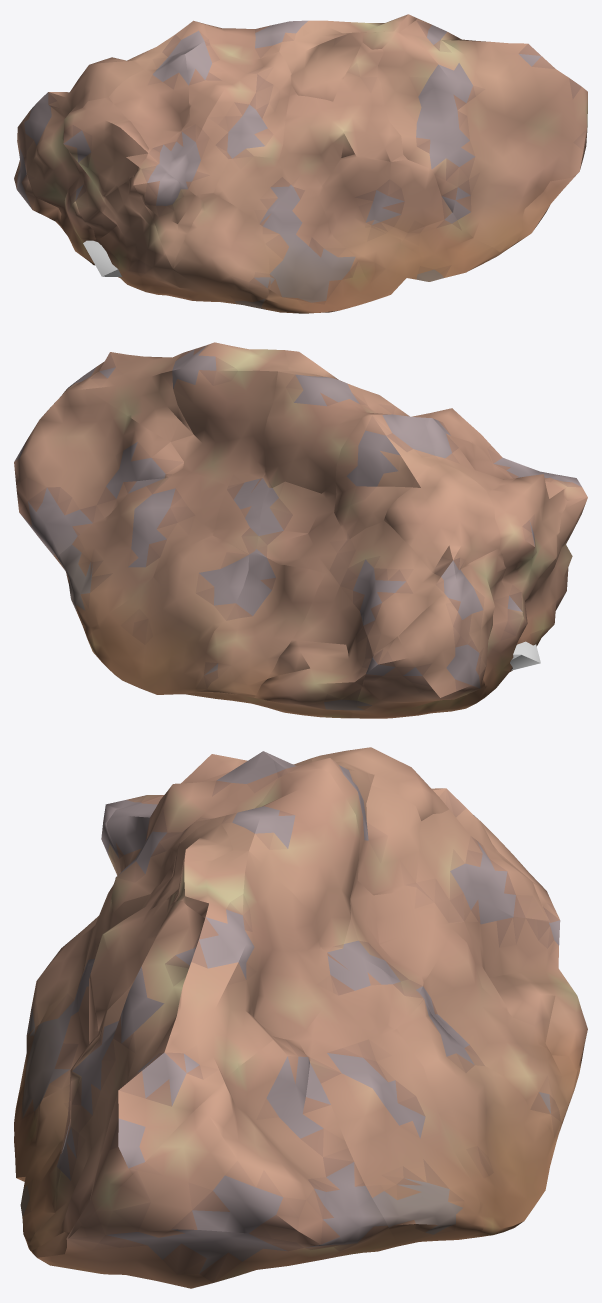
Rendered from iron_rock_v1.glb.
3 renders of one model, top to bottom at view 1: azimuth 30°, elevation 25°; view 2: azimuth 150°, elevation 25°; view 3: azimuth 270°, elevation 25°, orthographic. The views are drawn at different scales.
Visible parts, largest first — view 1: Chunk_13, Chunk_10, Chunk_28, Chunk_02, Chunk_07, Chunk_17, Chunk_04, Chunk_09, Chunk_18, Chunk_23, Chunk_25, Chunk_05 (+11 smaller); view 2: Chunk_00, Chunk_03, Chunk_08, Chunk_21, Chunk_01, Chunk_11, Chunk_06, Chunk_29, Chunk_22, Chunk_27, Chunk_14, Chunk_17 (+12 smaller); view 3: Chunk_00, Chunk_13, Chunk_08, Chunk_03, Chunk_21, Chunk_29, Chunk_11, Chunk_06, Chunk_14, Chunk_28, Chunk_27, Chunk_02 (+15 smaller).
Boxes of the visible parts, x1=… form: Chunk_13: x1=377, y1=18, x2=587, y2=253; Chunk_10: x1=317, y1=154, x2=451, y2=298; Chunk_28: x1=185, y1=45, x2=291, y2=159; Chunk_02: x1=241, y1=186, x2=378, y2=313; Chunk_07: x1=173, y1=194, x2=270, y2=306; Chunk_17: x1=63, y1=97, x2=148, y2=223; Chunk_04: x1=87, y1=176, x2=193, y2=300; Chunk_09: x1=24, y1=99, x2=95, y2=265; Chunk_18: x1=333, y1=42, x2=407, y2=161; Chunk_23: x1=279, y1=85, x2=344, y2=193; Chunk_25: x1=109, y1=53, x2=190, y2=148; Chunk_05: x1=365, y1=212, x2=501, y2=281; Chunk_00: x1=14, y1=385, x2=183, y2=568; Chunk_03: x1=87, y1=535, x2=248, y2=698; Chunk_08: x1=58, y1=469, x2=227, y2=638; Chunk_21: x1=171, y1=342, x2=288, y2=485; Chunk_01: x1=350, y1=593, x2=485, y2=718; Chunk_11: x1=195, y1=552, x2=325, y2=706; Chunk_06: x1=254, y1=570, x2=373, y2=718; Chunk_29: x1=263, y1=370, x2=382, y2=493; Chunk_22: x1=384, y1=462, x2=500, y2=579; Chunk_27: x1=334, y1=414, x2=441, y2=539; Chunk_14: x1=329, y1=520, x2=444, y2=654; Chunk_17: x1=486, y1=474, x2=567, y2=625; Chunk_00: x1=31, y1=1036, x2=397, y2=1288; Chunk_13: x1=28, y1=901, x2=272, y2=1250; Chunk_08: x1=298, y1=993, x2=483, y2=1246; Chunk_03: x1=396, y1=999, x2=556, y2=1240; Chunk_21: x1=174, y1=850, x2=333, y2=1040; Chunk_29: x1=214, y1=768, x2=360, y2=952; Chunk_11: x1=419, y1=929, x2=579, y2=1141; Chunk_06: x1=449, y1=917, x2=587, y2=1072; Chunk_14: x1=416, y1=808, x2=547, y2=924; Chunk_28: x1=111, y1=752, x2=277, y2=912; Chunk_27: x1=271, y1=756, x2=421, y2=895; Chunk_02: x1=14, y1=965, x2=92, y2=1170.
Size of the model in its own units: 4.1 by 1.9 by 2.8.
